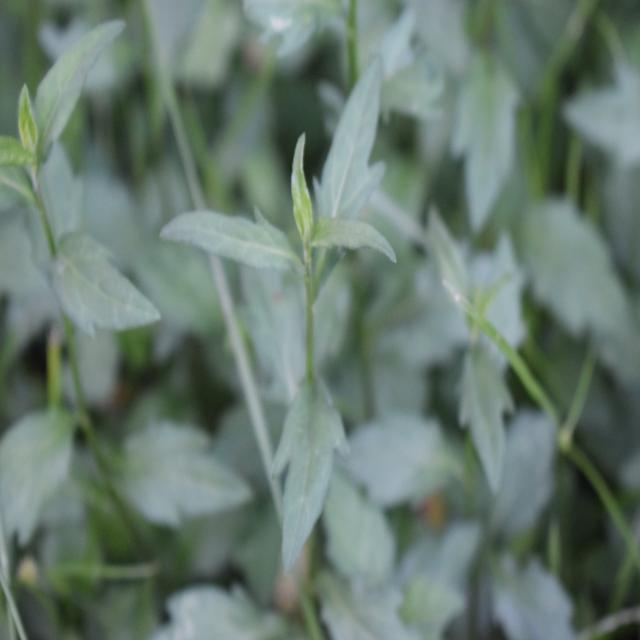Indian aster: (182, 89, 432, 565), (0, 40, 156, 368)
